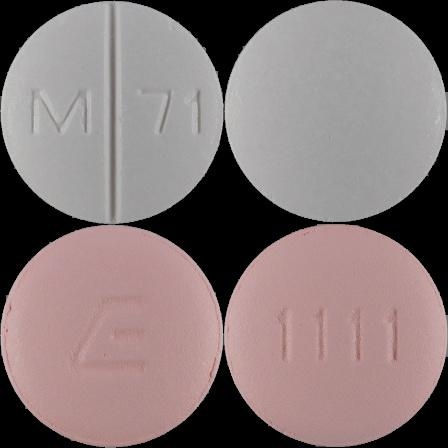43353-186: (0, 0, 224, 224)
